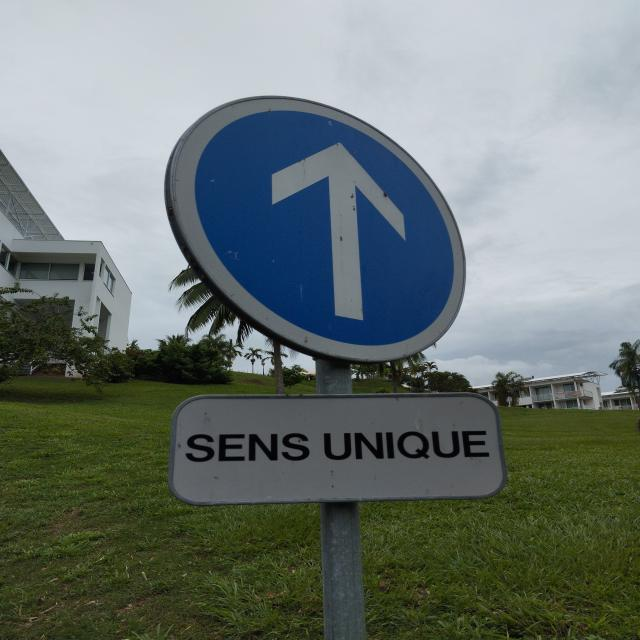Sens-Unique: (167, 90, 469, 364)
